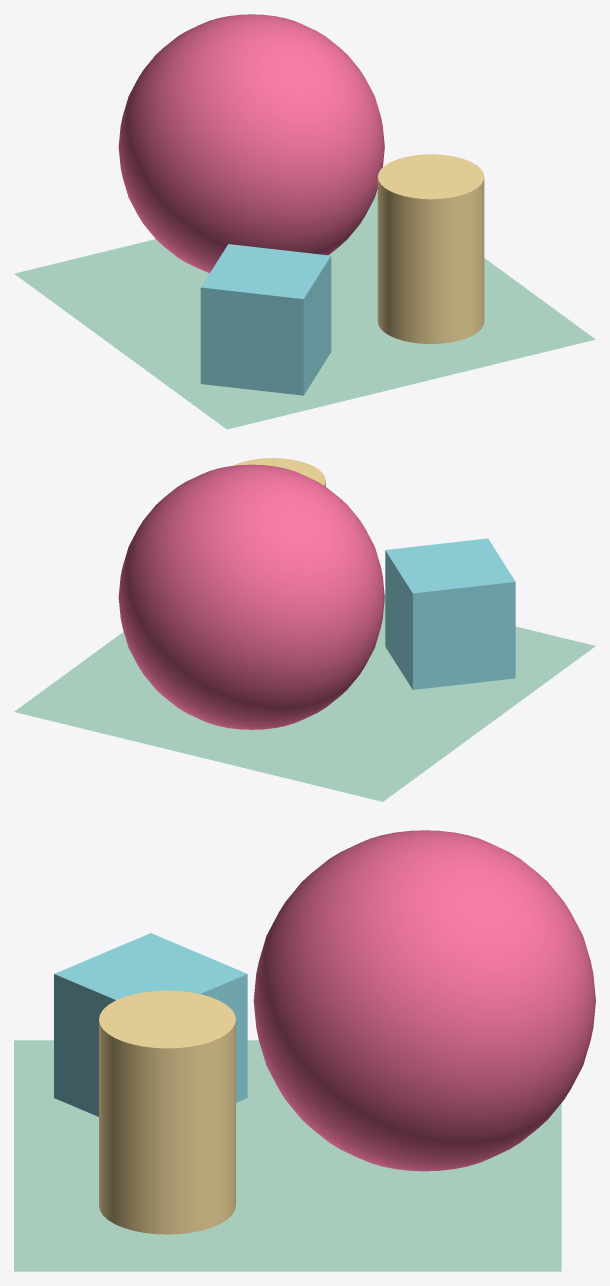
Rendered from aframe-io-aframe-examples-boilerplate-hello-world.glb.
The picture shows the model from 3 angles, top to bottom: view 1: azimuth 30°, elevation 25°; view 2: azimuth 150°, elevation 25°; view 3: azimuth 270°, elevation 25°; orthographic projection. The views are drawn at different scales.
Size of the model in its own units: 4 by 2.5 by 4.25.
